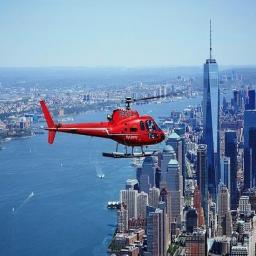helicopter: (39, 72, 169, 160)
